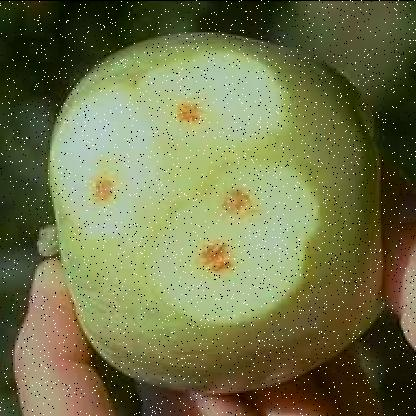damaged_apple: (48, 33, 374, 381)
